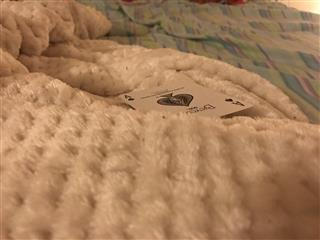AceOfSpades: (118, 80, 253, 115)
